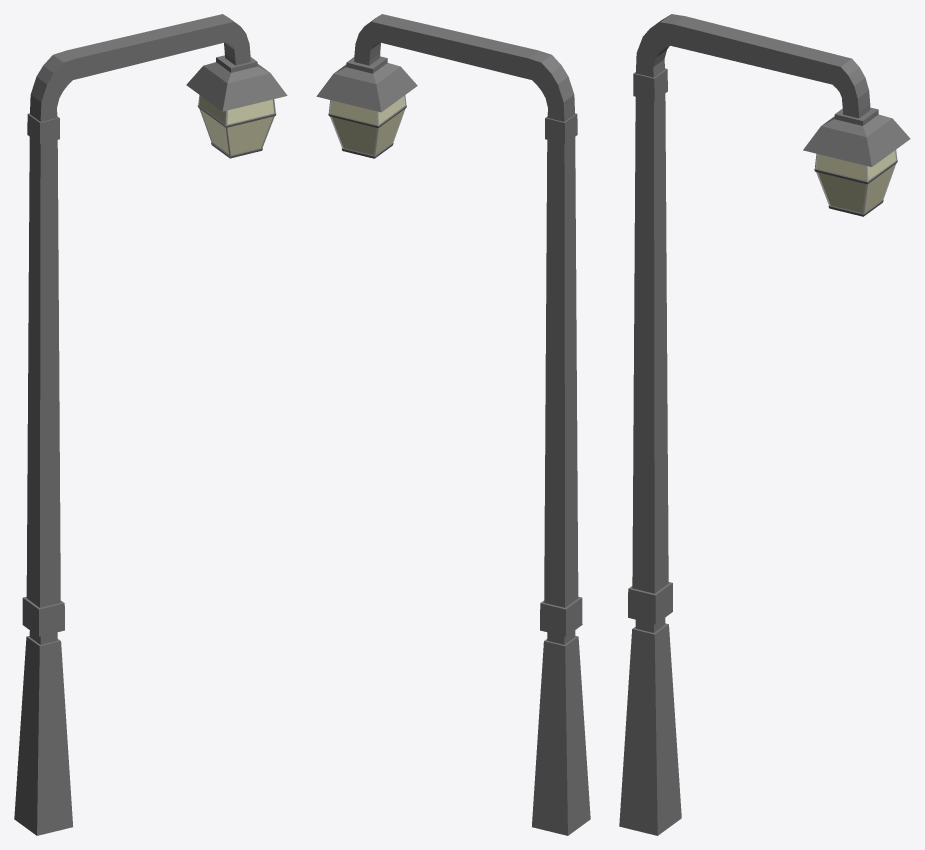
Rendered from lampp.fbx.
3 renders of one model, left to right at view 1: azimuth 30°, elevation 25°; view 2: azimuth 150°, elevation 25°; view 3: azimuth 330°, elevation 25°, orthographic. The views are drawn at different scales.
Parts seen in each view (by area): view 1: pCube4; view 2: pCube4; view 3: pCube4.
Part boxes in pixels (x1,y1,x2,y2): pCube4: (14, 14, 287, 835); pCube4: (316, 14, 590, 835); pCube4: (619, 14, 910, 835).
Bounding box in the file's own units: 2.02 × 6.03 × 0.5225.
